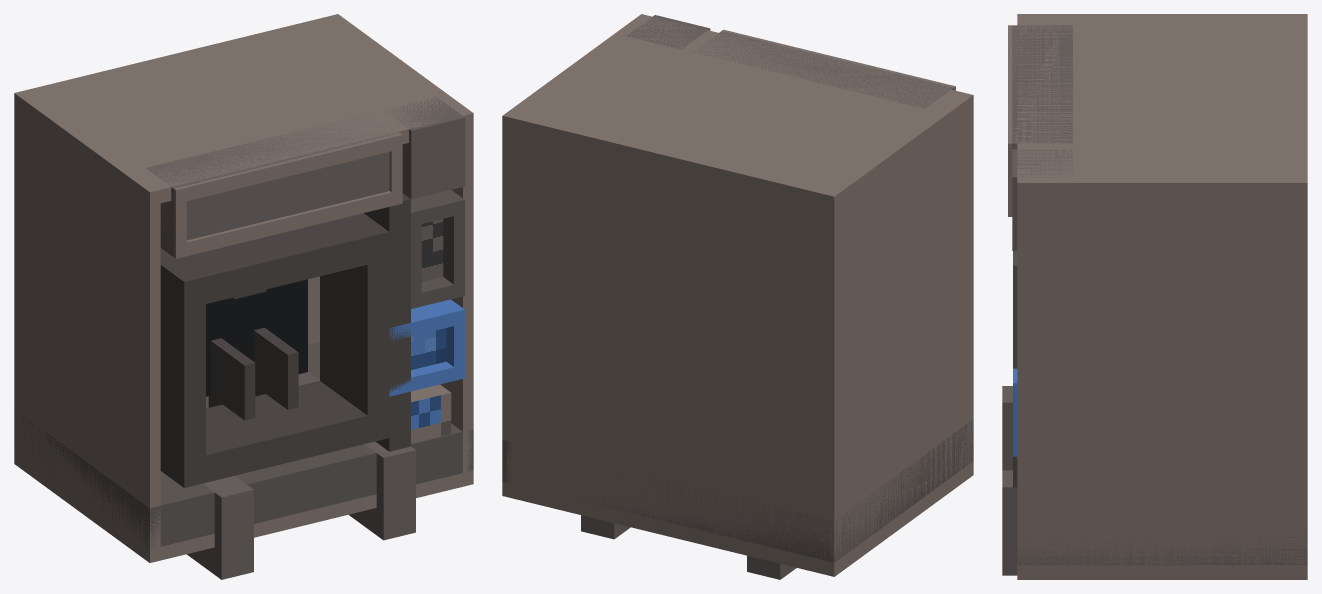
The model's file is CMU3DArmyLatheCloud.glb.
3 views of the same model, side by side, from view 1: azimuth 30°, elevation 25°; view 2: azimuth 150°, elevation 25°; view 3: azimuth 270°, elevation 25° (orthographic). The views are drawn at different scales.
Visible parts, largest first — view 1: left full depth casing, case roof, heavy bottom crossbeam, wide raised header, main fabrication bay bottom, main fabrication bay top, main fabrication bay right, main fabrication bay left, right full depth casing, deep fabrication chamber rear, right equipment vertical divider, right header plate (+20 smaller); view 2: cabinet rear, left full depth casing, case roof, heavy bottom crossbeam, wide raised header, right full depth casing, header inset top, case floor, right header plate, support foot 7, support foot 22; view 3: right full depth casing, case roof, wide raised header, heavy bottom crossbeam, header inset top, cabinet rear, left full depth casing, right header plate, support foot 22, support foot 7.
Part boxes in pixels (x1,y1,x2,y2): left full depth casing: (14, 90, 160, 562); case roof: (26, 17, 459, 203); heavy bottom crossbeam: (14, 342, 473, 547); wide raised header: (146, 113, 399, 257); main fabrication bay bottom: (160, 381, 389, 487); main fabrication bay top: (160, 213, 389, 309); main fabrication bay right: (320, 259, 389, 415); main fabrication bay left: (160, 292, 205, 460); right full depth casing: (328, 14, 473, 486); deep fabrication chamber rear: (206, 279, 307, 396); right equipment vertical divider: (364, 193, 410, 451); right header plate: (385, 97, 465, 199); cabinet rear: (513, 112, 830, 573); left full depth casing: (823, 92, 973, 576); case roof: (513, 17, 961, 205); heavy bottom crossbeam: (502, 419, 973, 562); wide raised header: (693, 31, 953, 108); right full depth casing: (502, 14, 651, 498); header inset top: (700, 29, 955, 102); case floor: (515, 495, 823, 573); right header plate: (627, 15, 710, 49); support foot 7: (747, 555, 796, 579); support foot 22: (581, 515, 630, 539); right full depth casing: (1017, 177, 1307, 579); case roof: (1017, 19, 1307, 177); wide raised header: (1012, 25, 1072, 149); heavy bottom crossbeam: (1017, 525, 1307, 565); header inset top: (1008, 25, 1059, 158); cabinet rear: (1290, 19, 1307, 177); left full depth casing: (1017, 14, 1307, 19); right header plate: (1012, 149, 1072, 250); support foot 22: (1002, 470, 1017, 575); support foot 7: (1002, 386, 1012, 470).
Bounding box in the file's own units: 0.9375 × 1.1 × 0.715.
Materials: 9 (3 with a texture image).
